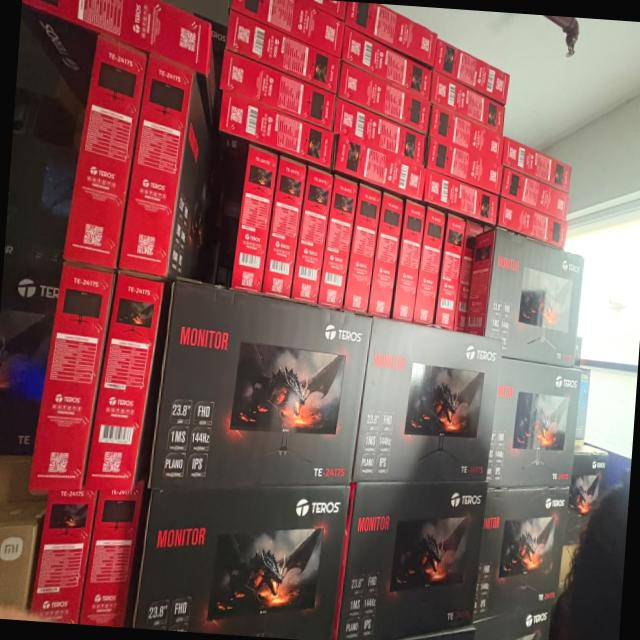caja-monitor: (152, 282, 374, 488), (133, 486, 350, 637), (354, 316, 501, 483), (340, 484, 487, 640), (115, 55, 213, 281), (62, 39, 148, 271), (30, 264, 116, 489), (81, 270, 168, 491), (22, 0, 209, 97), (464, 233, 584, 367), (472, 490, 568, 621), (488, 358, 581, 484), (77, 485, 149, 621), (219, 88, 333, 169), (29, 486, 96, 623), (219, 51, 336, 129), (225, 16, 339, 94), (231, 140, 278, 291), (230, 0, 345, 59), (341, 26, 430, 101), (338, 62, 429, 133), (331, 136, 426, 203), (344, 1, 437, 65), (263, 156, 305, 297), (291, 164, 333, 305), (333, 101, 423, 163), (318, 174, 358, 306), (433, 40, 510, 103), (428, 103, 504, 166), (368, 192, 405, 319), (430, 70, 503, 134), (426, 134, 503, 192), (424, 170, 499, 228), (348, 184, 381, 315), (501, 135, 571, 193), (393, 200, 425, 322), (412, 208, 444, 325), (433, 216, 464, 331), (501, 170, 568, 221), (497, 199, 565, 249), (454, 221, 483, 331)
